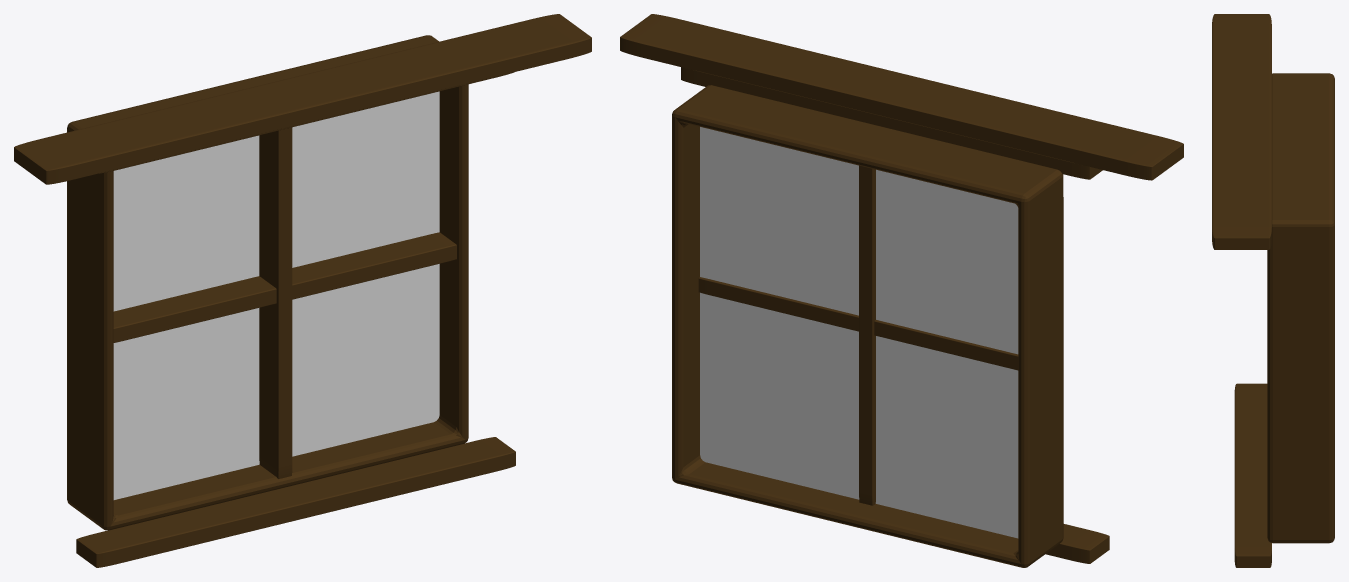
Rendered from Window03.fbx.
3 renders of one model, left to right at view 1: azimuth 30°, elevation 25°; view 2: azimuth 150°, elevation 25°; view 3: azimuth 270°, elevation 25°, orthographic. The views are drawn at different scales.
Visible parts, largest first — view 1: WindowGlow, WindowFrame04, WindowFrame01.002, WindowFrame04.001, WindowFrame01, WindowFrame03, WindowFrame04.002, WindowFrame02; view 2: WindowGlow, WindowFrame04.001, WindowFrame04, WindowFrame01.002, WindowFrame03, WindowFrame04.002, WindowFrame01.001, WindowFrame01, WindowFrame02; view 3: WindowFrame04, WindowFrame04.001, WindowFrame01.002, WindowFrame01, WindowFrame02.
Boxes of the visible parts, bbox=[...] form: WindowGlow: bbox=[113, 91, 439, 499]; WindowFrame04: bbox=[67, 35, 468, 530]; WindowFrame01.002: bbox=[14, 14, 591, 184]; WindowFrame04.001: bbox=[67, 35, 468, 530]; WindowFrame01: bbox=[76, 437, 515, 567]; WindowFrame03: bbox=[259, 127, 292, 478]; WindowFrame04.002: bbox=[113, 232, 456, 342]; WindowFrame02: bbox=[85, 440, 513, 567]; WindowGlow: bbox=[700, 127, 1018, 538]; WindowFrame04.001: bbox=[672, 85, 1063, 563]; WindowFrame04: bbox=[672, 85, 1063, 567]; WindowFrame01.002: bbox=[620, 14, 1183, 180]; WindowFrame03: bbox=[859, 165, 875, 505]; WindowFrame04.002: bbox=[698, 277, 1018, 370]; WindowFrame01.001: bbox=[681, 67, 1102, 179]; WindowFrame01: bbox=[1046, 524, 1109, 563]; WindowFrame02: bbox=[1046, 524, 1109, 560]; WindowFrame04: bbox=[1267, 73, 1334, 543]; WindowFrame04.001: bbox=[1267, 73, 1334, 543]; WindowFrame01.002: bbox=[1212, 14, 1271, 249]; WindowFrame01: bbox=[1234, 383, 1271, 567]; WindowFrame02: bbox=[1234, 383, 1271, 567].
Size of the model in its own units: 83.56 by 61.92 by 19.33.
